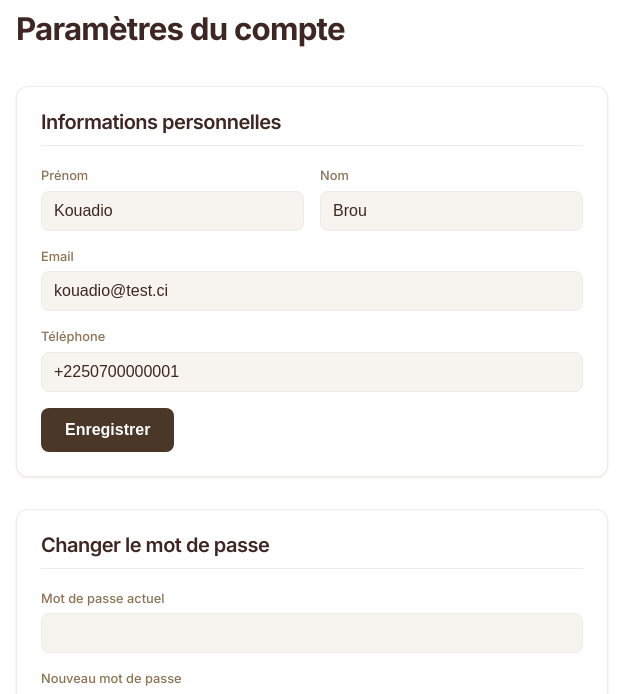
Test: Settings Page — F2: Gestion du Profil › Profile section › disables submit button while loading
Click the button with test id "st-prof-submit".
click(108, 430)  # box [41, 408, 174, 452]
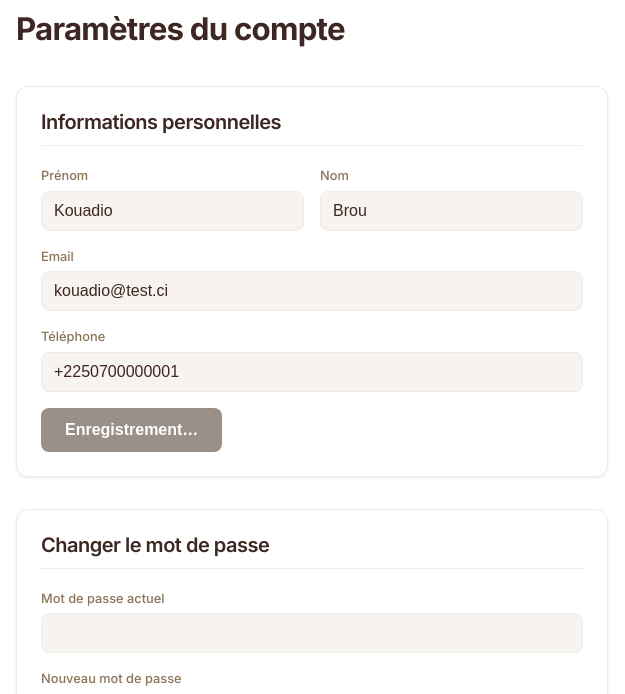
Expected: the button with test id "st-prof-submit" is disabled, [41, 408, 222, 452]
